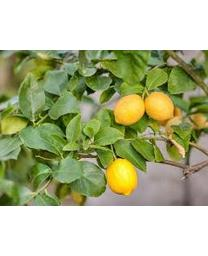lemon: (106, 158, 138, 196), (144, 91, 173, 121), (115, 96, 144, 125)
